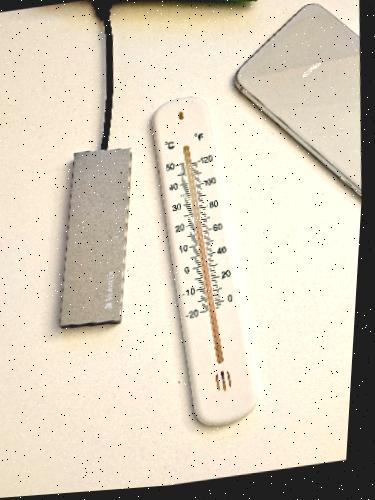thermo: (151, 92, 260, 424)
